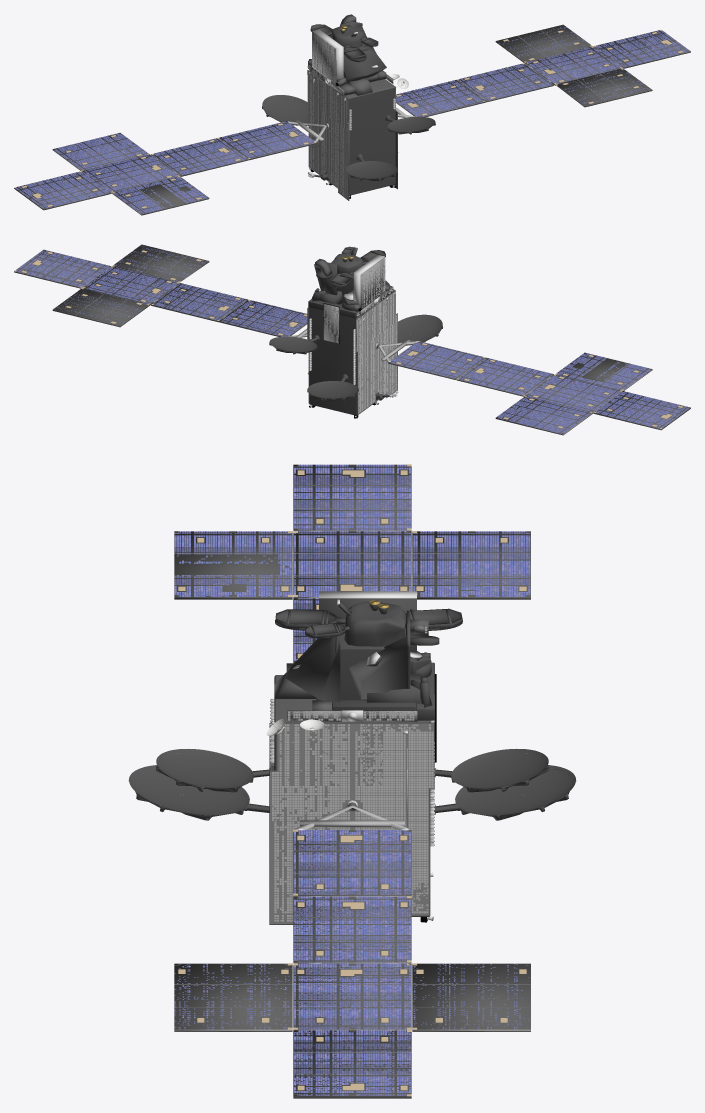
File: space-systems-loral-ssl-1300.glb
3 views of the same model, one above another, from view 1: azimuth 30°, elevation 25°; view 2: azimuth 150°, elevation 25°; view 3: azimuth 270°, elevation 25° (orthographic). The views are drawn at different scales.
Parts seen in each view (by area): view 1: Empty_Mesh; view 2: Empty_Mesh; view 3: Empty_Mesh.
Part boxes in pixels (x1,y1,x2,y2): Empty_Mesh: (14, 14, 690, 215); Empty_Mesh: (14, 244, 690, 435); Empty_Mesh: (128, 464, 576, 1098).
Size of the model in its own units: 268 by 61.25 by 80.36.
